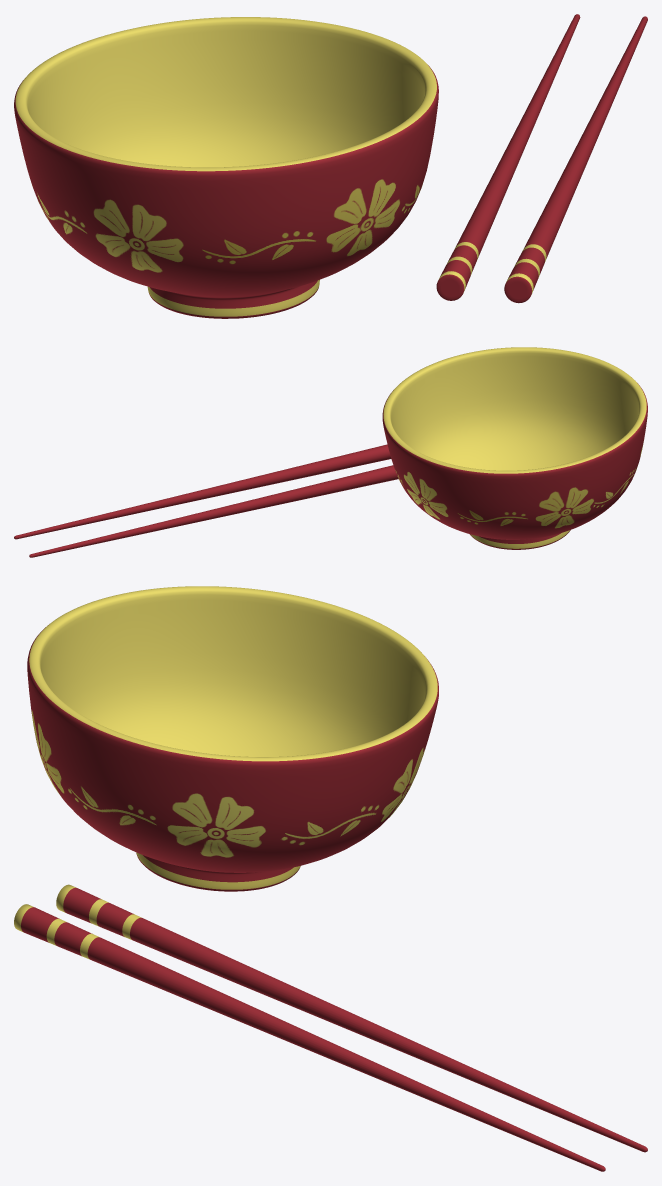
File: obj_sakura_set_japanese_bowl_and_3b2639.glb
The picture shows the model from 3 angles, top to bottom: view 1: azimuth 30°, elevation 25°; view 2: azimuth 150°, elevation 25°; view 3: azimuth 270°, elevation 25°; orthographic projection. The views are drawn at different scales.
Parts seen in each view (by area): view 1: obj_sakura_set_japanese_bowl_and_3b2639; view 2: obj_sakura_set_japanese_bowl_and_3b2639; view 3: obj_sakura_set_japanese_bowl_and_3b2639.
Part boxes in pixels (x1=…): obj_sakura_set_japanese_bowl_and_3b2639: x1=14, y1=14, x2=647, y2=318; obj_sakura_set_japanese_bowl_and_3b2639: x1=14, y1=347, x2=647, y2=557; obj_sakura_set_japanese_bowl_and_3b2639: x1=14, y1=586, x2=647, y2=1171.
Bounding box in the file's own units: 0.45 × 0.1259 × 0.3198.
Materials: 7 (2 with a texture image).
